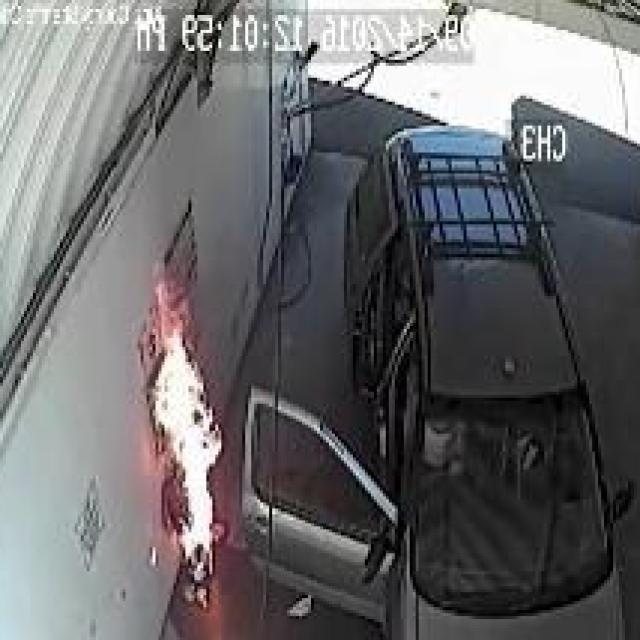smoke: (144, 266, 228, 592)
